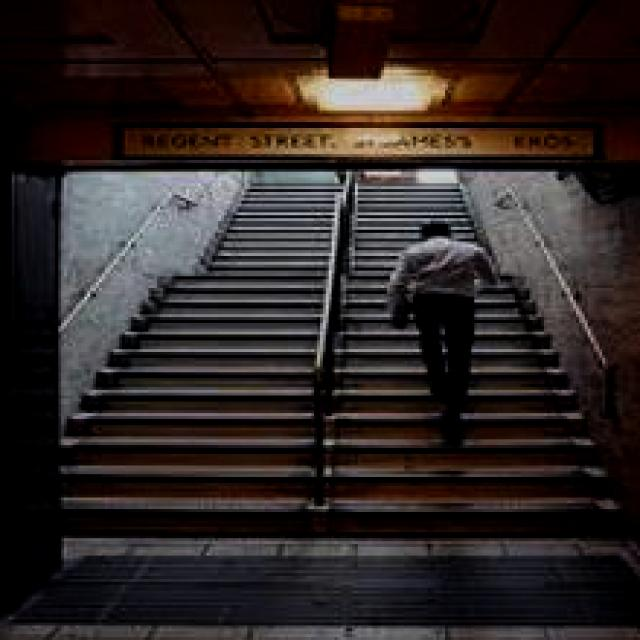upstair: (114, 356, 577, 493)
